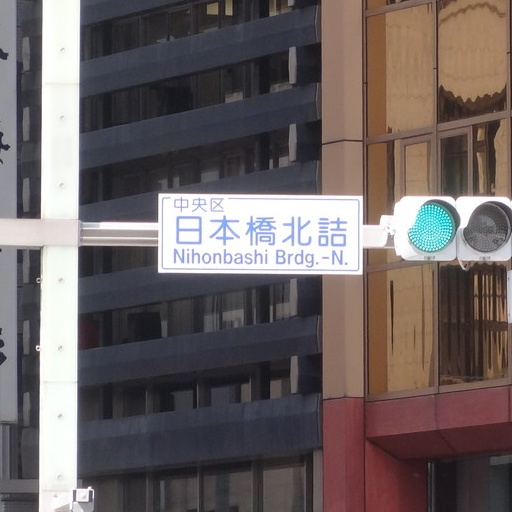Traffic_Signal_Blue: (391, 190, 511, 259)
